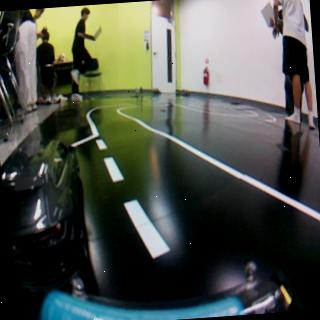car: (0, 131, 91, 299)
